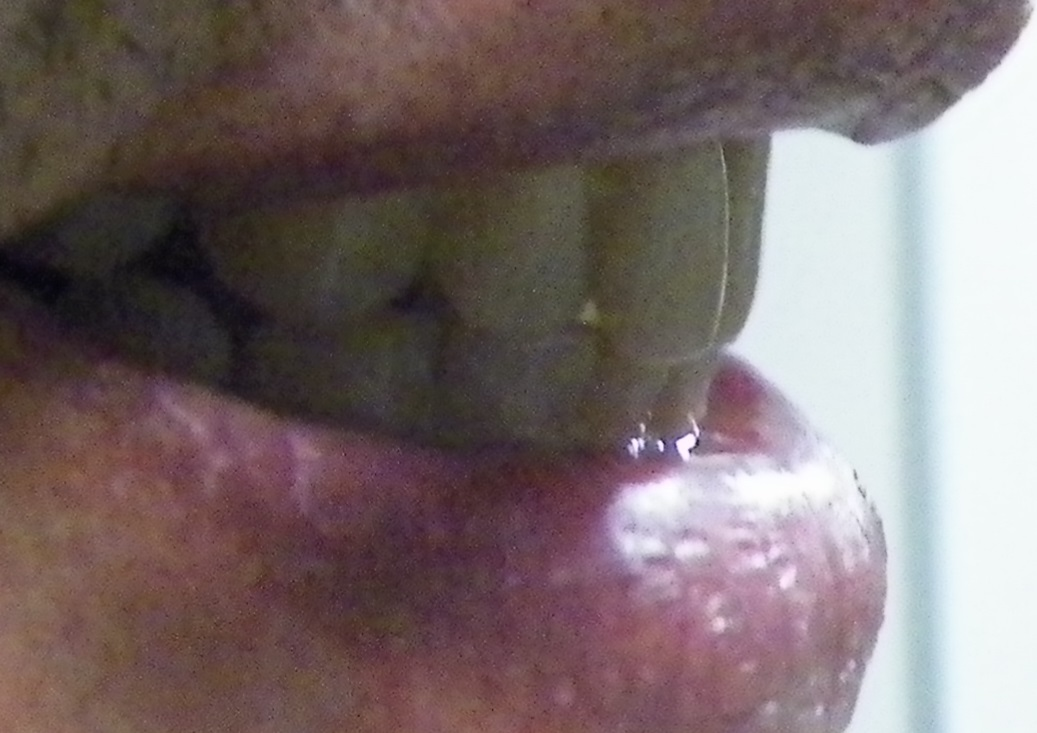boca: (58, 109, 797, 442)
